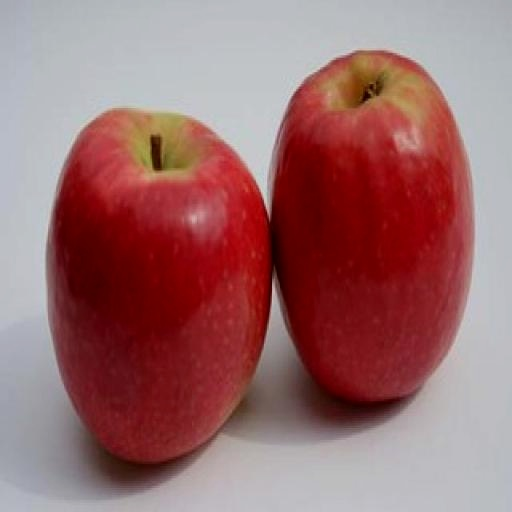fruit: (47, 110, 271, 462), (271, 52, 473, 401)
